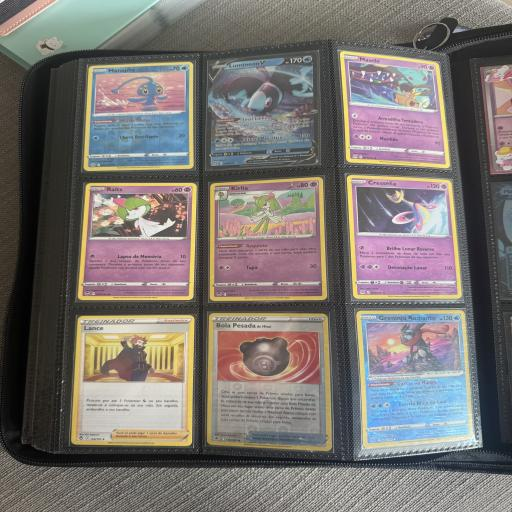card: (206, 312, 335, 451), (356, 305, 474, 449), (71, 313, 195, 446), (197, 52, 326, 174), (347, 170, 463, 304), (208, 176, 326, 301), (339, 45, 451, 175), (78, 182, 197, 301), (83, 61, 195, 172)
